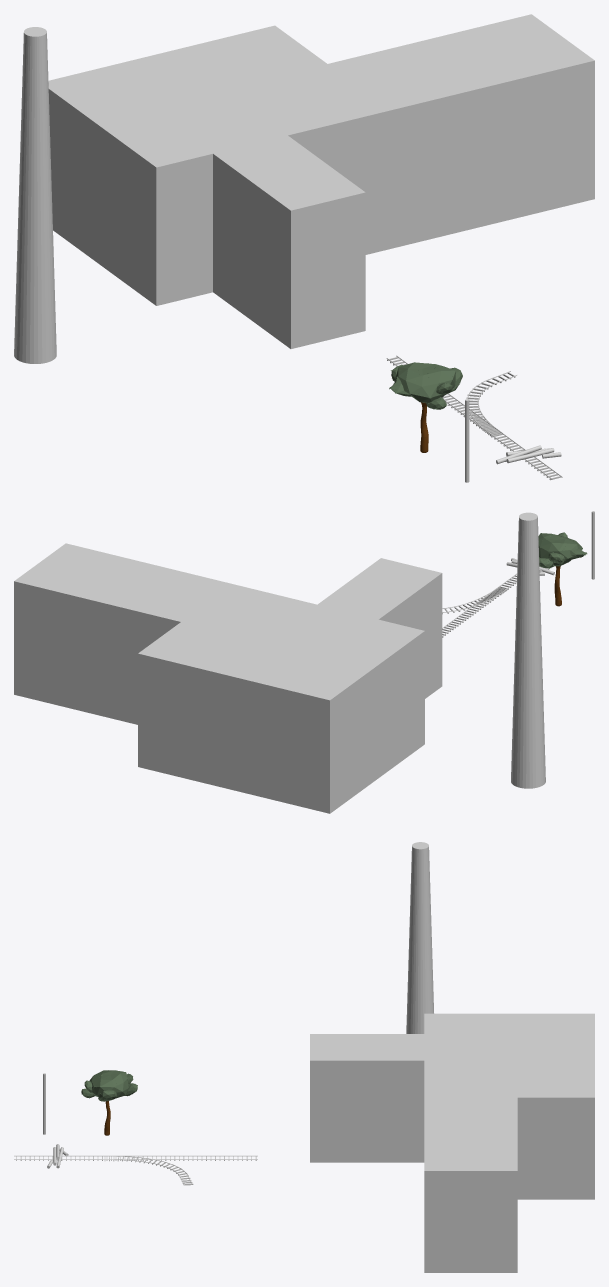
The model's file is Forestal.fbx.
3 renders of one model, top to bottom at view 1: azimuth 30°, elevation 25°; view 2: azimuth 150°, elevation 25°; view 3: azimuth 270°, elevation 25°, orthographic. The views are drawn at different scales.
Visible parts, largest first — view 1: Cube.004, Cylinder.002, Vert.009, Cube, Cube.001; view 2: Cube.004, Cylinder.002, Vert.009, Cube; view 3: Cube.004, Cylinder.002, Vert.009, Cube.002.
Boxes of the visible parts, x1=… form: Cube.004: x1=48, y1=14, x2=594, y2=348; Cylinder.002: x1=14, y1=27, x2=56, y2=363; Vert.009: x1=395, y1=362, x2=455, y2=402; Cube: x1=387, y1=357, x2=561, y2=480; Cube.001: x1=466, y1=372, x2=515, y2=436; Cube.004: x1=14, y1=543, x2=442, y2=813; Cylinder.002: x1=511, y1=512, x2=545, y2=788; Vert.009: x1=538, y1=533, x2=582, y2=566; Cube: x1=442, y1=575, x2=516, y2=637; Cube.004: x1=310, y1=1013, x2=594, y2=1272; Cylinder.002: x1=406, y1=842, x2=433, y2=1033; Vert.009: x1=89, y1=1070, x2=128, y2=1098; Cube.002: x1=14, y1=1155, x2=257, y2=1159.
Size of what is drawn, in the model's own units: 14173 by 7537 by 16688.
